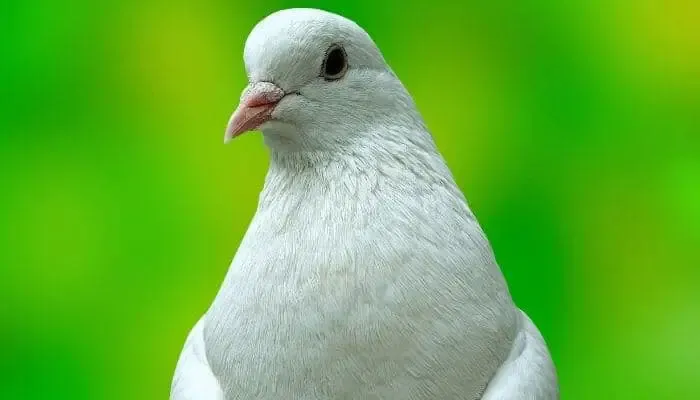Flying Rat: (171, 8, 556, 400)
